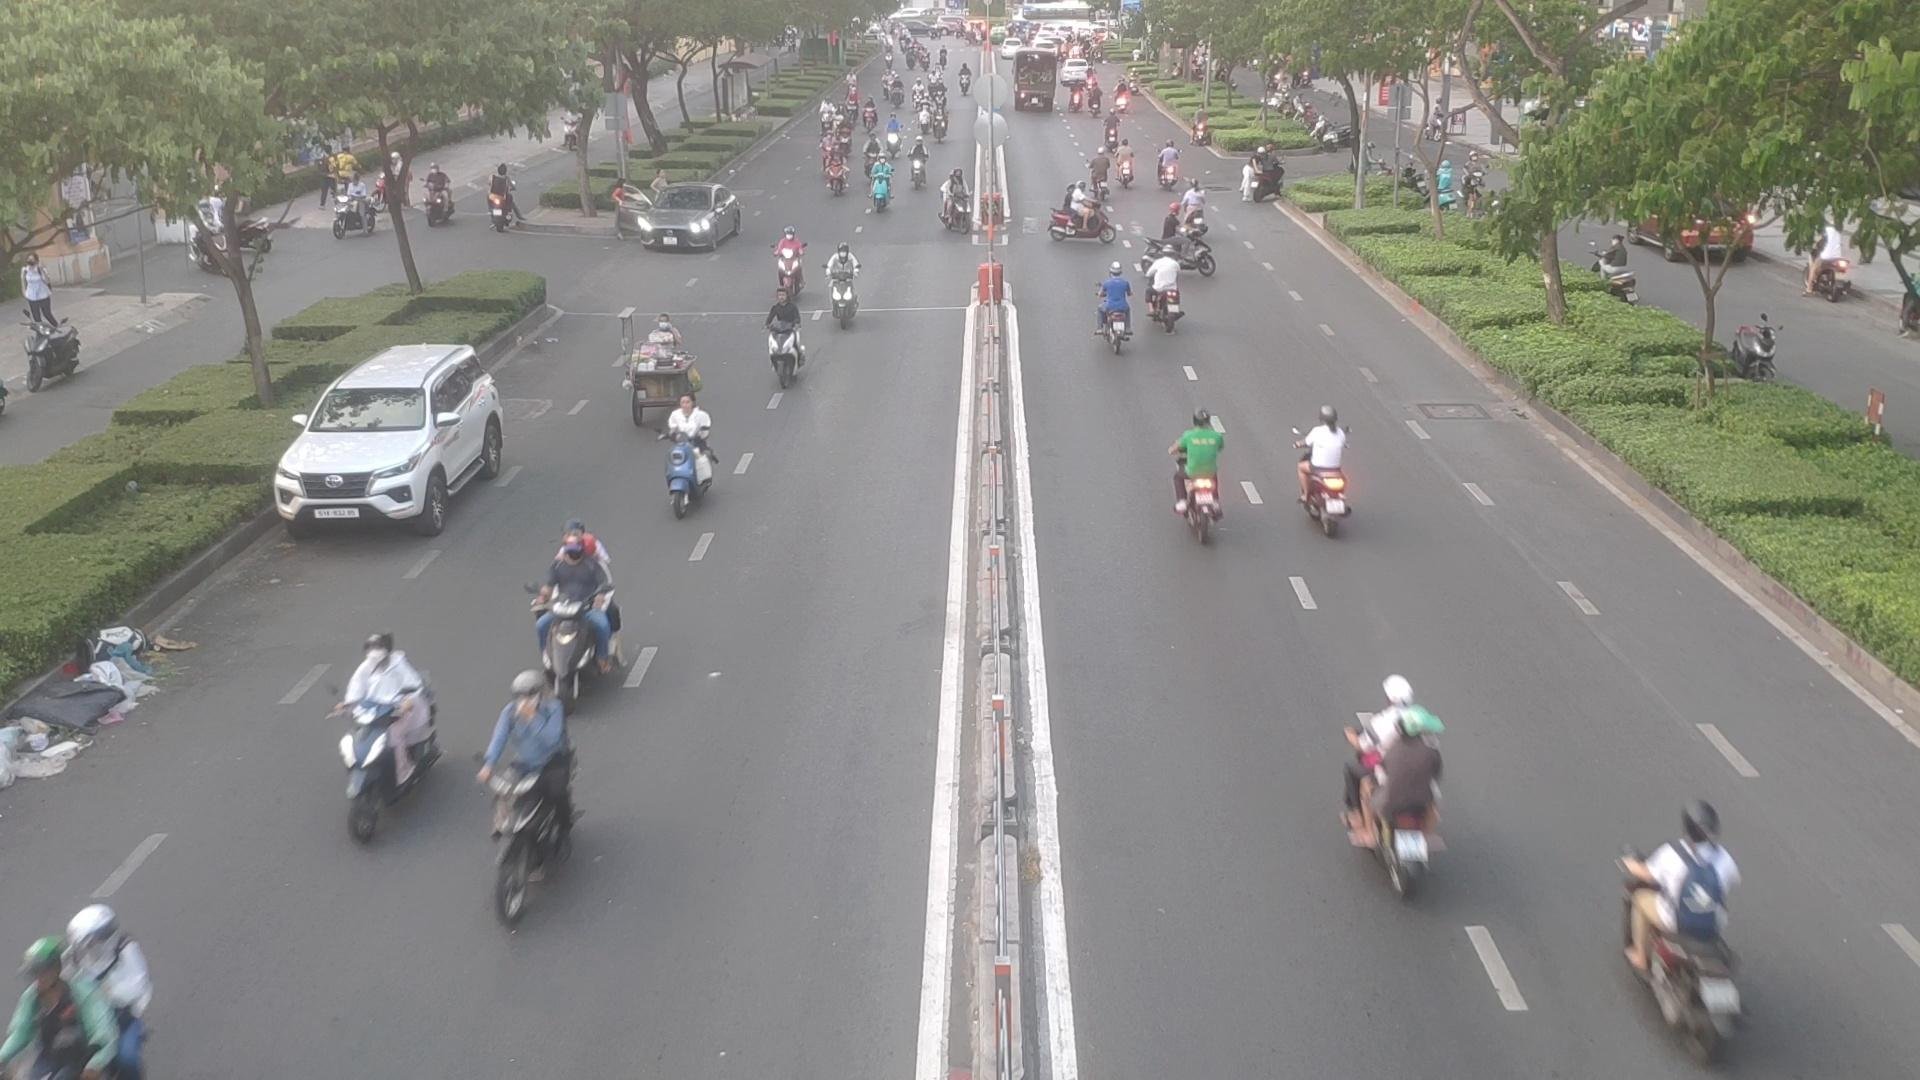car: (278, 345, 520, 537), (621, 189, 756, 257)
motorbike: (1622, 818, 1759, 1056), (0, 901, 152, 1080), (1342, 670, 1462, 884), (327, 640, 438, 839), (538, 531, 634, 699), (1160, 411, 1228, 538), (653, 397, 719, 512), (1295, 410, 1356, 533), (758, 294, 823, 384), (1085, 273, 1138, 356), (822, 249, 872, 334), (1048, 191, 1117, 247), (1156, 222, 1216, 280), (1139, 281, 1182, 335), (1104, 141, 1137, 183)
